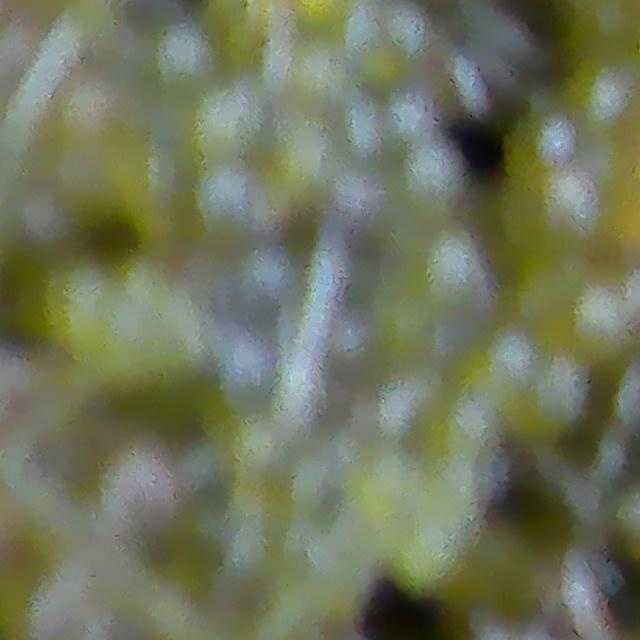SeaGrape: (189, 81, 268, 163), (189, 163, 266, 245), (151, 21, 221, 89), (399, 139, 465, 209)
